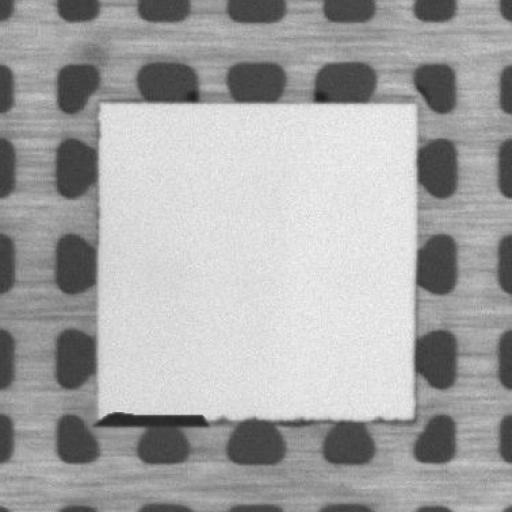DIE_BROKEN: (89, 408, 213, 426)
